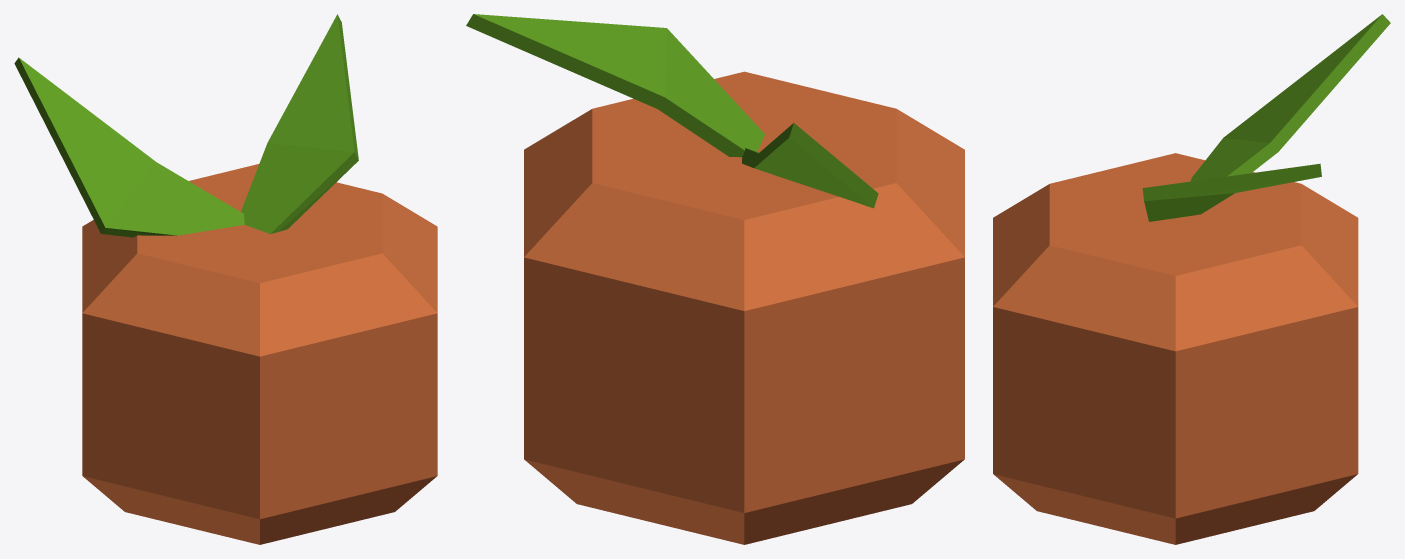
File: Pumpkin_01.fbx
3 renders of one model, left to right at view 1: azimuth 30°, elevation 25°; view 2: azimuth 150°, elevation 25°; view 3: azimuth 270°, elevation 25°, orthographic. The views are drawn at different scales.
Visible parts, largest first — view 1: Model; view 2: Model; view 3: Model.
Part boxes in pixels (x1,y1,x2,y2): Model: (14, 14, 437, 544); Model: (466, 14, 964, 544); Model: (993, 14, 1390, 544).
Bounding box in the file's own units: 309 × 318 × 292.
